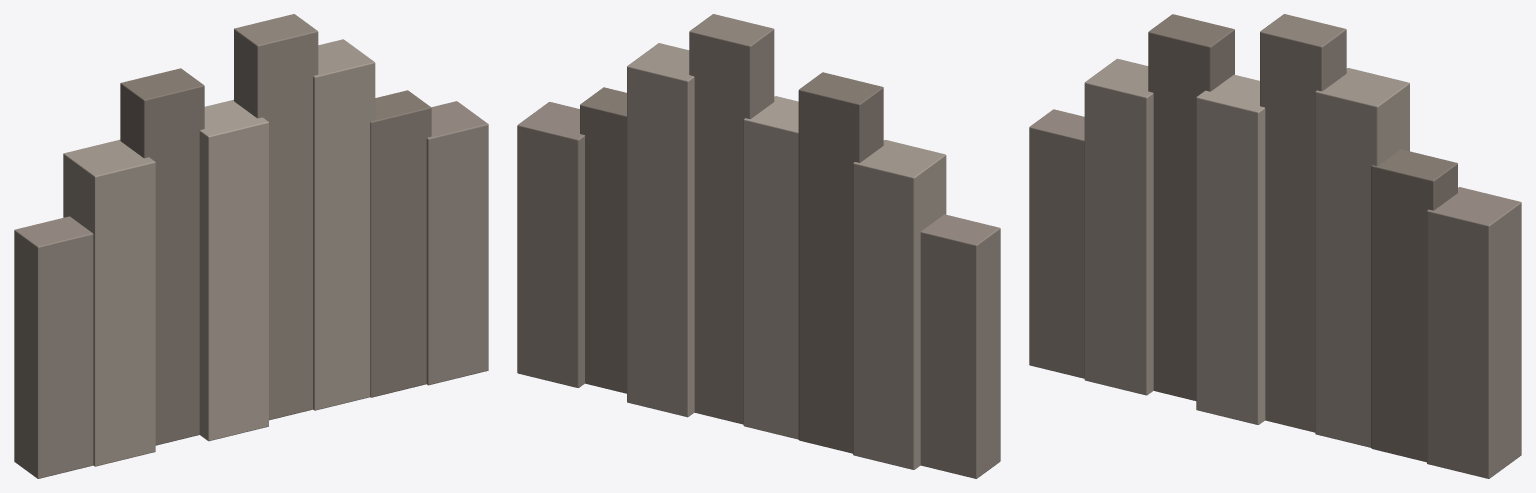
The model's file is RockClimbing_Cliff.fbx.
3 views of the same model, side by side, from view 1: azimuth 30°, elevation 25°; view 2: azimuth 150°, elevation 25°; view 3: azimuth 330°, elevation 25° (orthographic). The views are drawn at different scales.
Parts seen in each view (by area): view 1: Cliff; view 2: Cliff; view 3: Cliff.
Part boxes in pixels (<box>): Cliff: <box>14,14,488,478</box>; Cliff: <box>517,14,1000,478</box>; Cliff: <box>1029,14,1521,478</box>.
Size of the model in its own units: 32.4 by 26 by 4.6.
